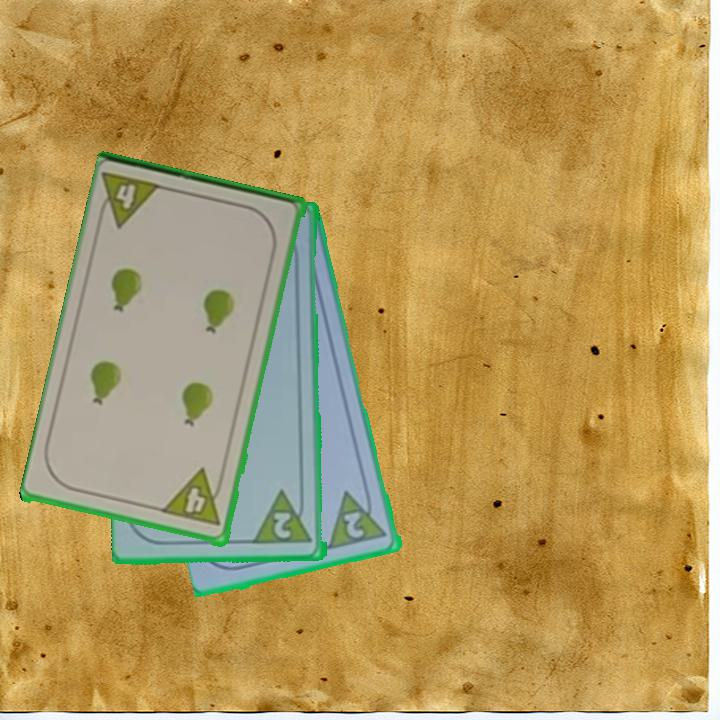2p: (340, 508, 368, 542), (270, 509, 295, 542)
4p: (93, 168, 167, 232), (160, 467, 228, 530)
